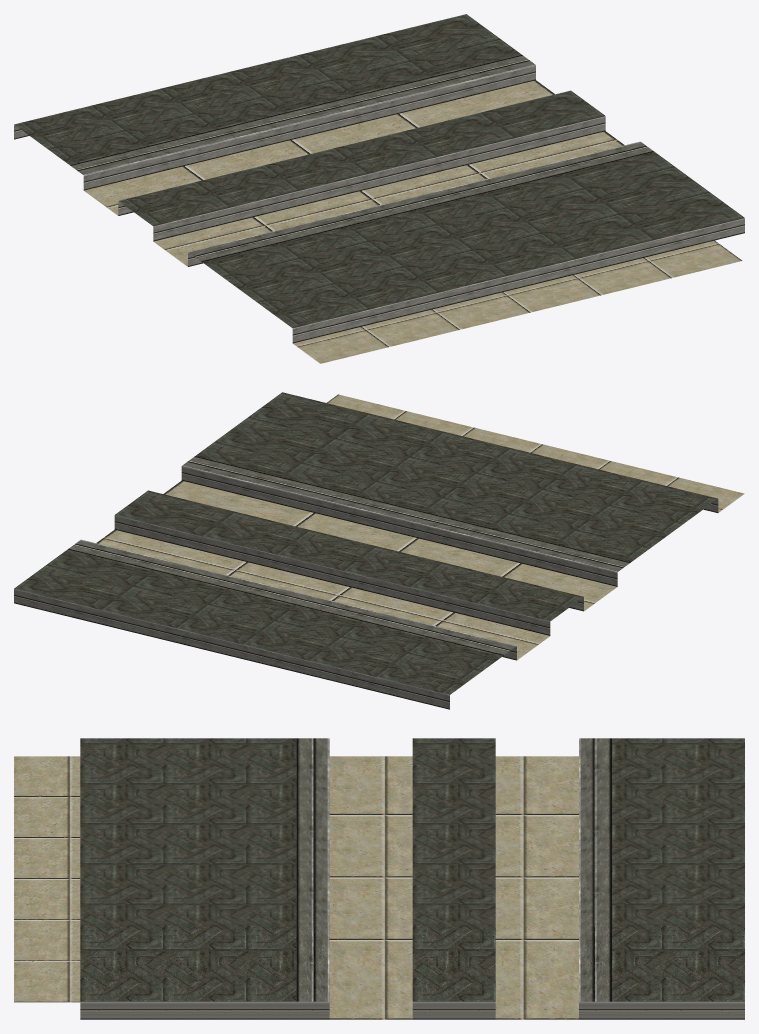
Rendered from DWARF_PALACE_WATER_ROOM_FLOORC01.fbx.
The picture shows the model from 3 angles, top to bottom: view 1: azimuth 30°, elevation 25°; view 2: azimuth 150°, elevation 25°; view 3: azimuth 270°, elevation 25°; orthographic projection. The views are drawn at different scales.
Parts seen in each view (by area): view 1: DWARF_PALACE_WATER_ROOM_FLOORC01; view 2: DWARF_PALACE_WATER_ROOM_FLOORC01; view 3: DWARF_PALACE_WATER_ROOM_FLOORC01.
Part boxes in pixels (x1,y1,x2,y2): DWARF_PALACE_WATER_ROOM_FLOORC01: (14, 14, 744, 363); DWARF_PALACE_WATER_ROOM_FLOORC01: (14, 392, 744, 709); DWARF_PALACE_WATER_ROOM_FLOORC01: (14, 738, 744, 1019).
Size of the model in its own units: 187581 by 6024 by 219977.
4 materials, 4 textured.
